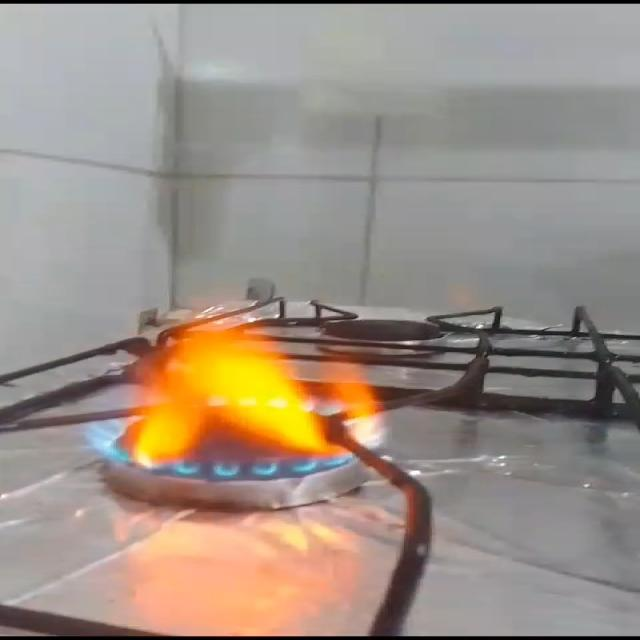fogo-ypXI: (69, 295, 396, 482)
